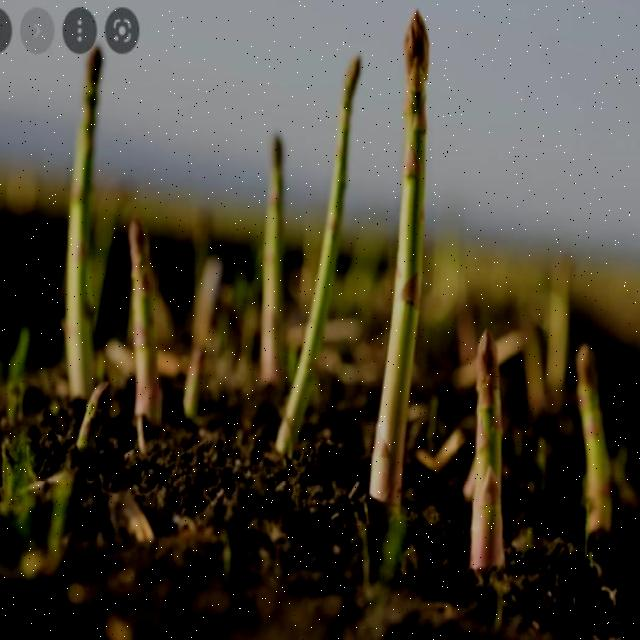aspargus: (280, 56, 363, 456), (372, 13, 430, 507), (67, 42, 104, 396), (469, 333, 506, 576), (575, 343, 615, 540), (125, 222, 159, 414)
